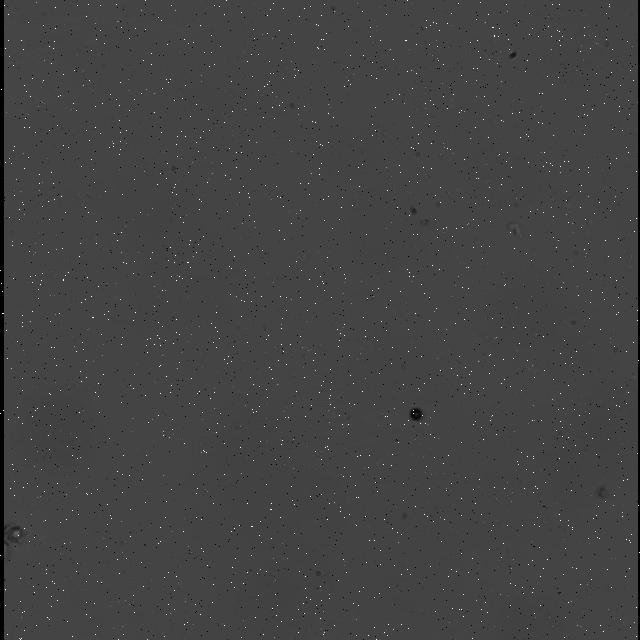microbeads: (405, 403, 425, 425)
